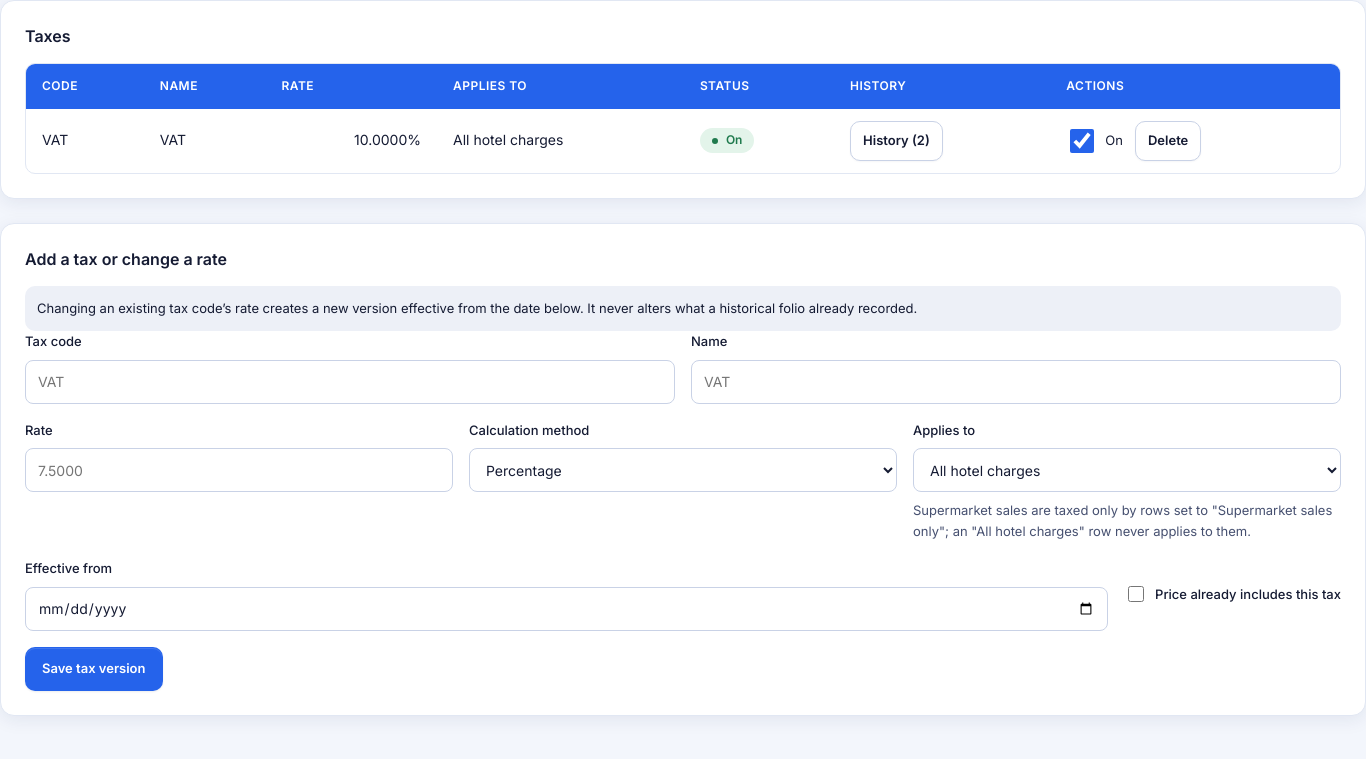
it: <TaxesTab> › grouping, history and delete availability › History is collapsed by default and expands to every version with its dates and rate
The width and height of the screenshot is (1366, 759).
Expected: the text "Historical" is not shown
Click the button "History (2)": [896, 141] box 850,121 -> 943,161
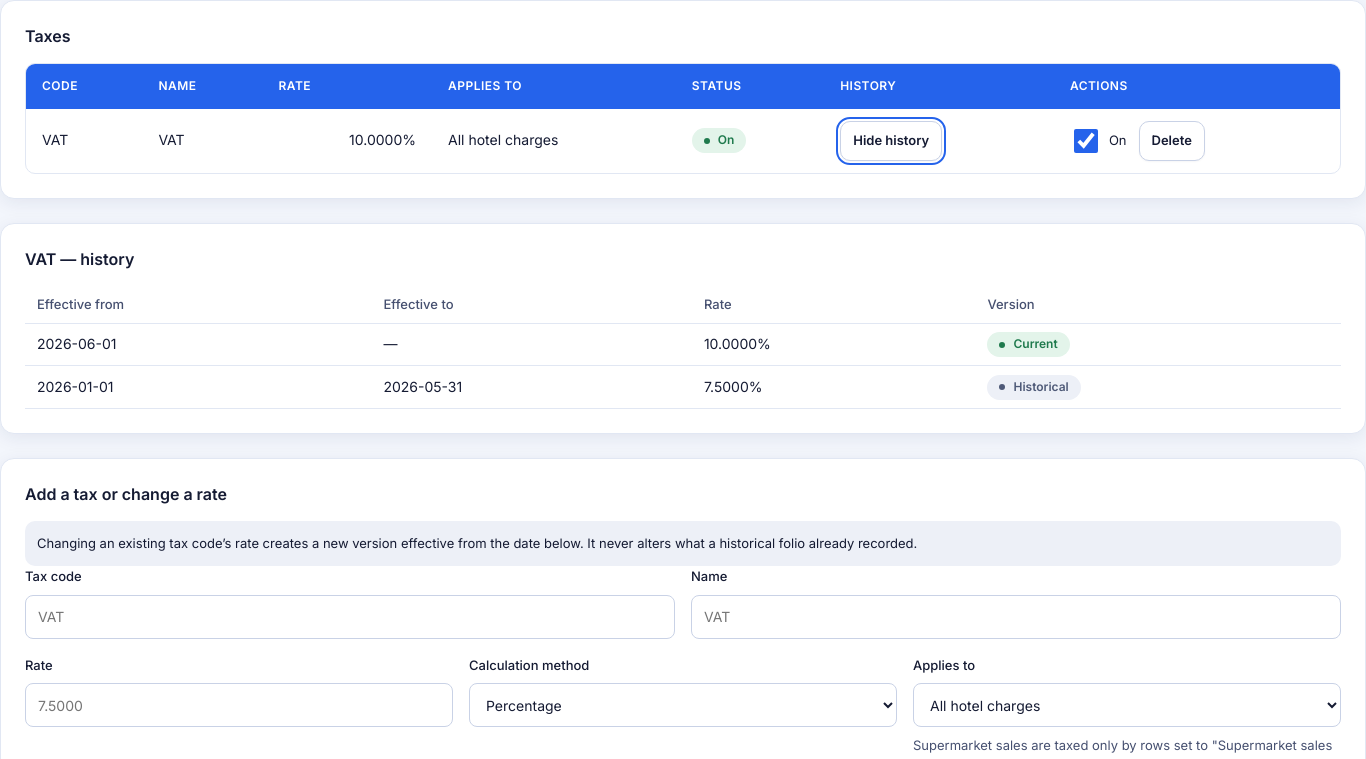
Now the button "Hide history" is expanded
Now the text "2026-05-31" is shown, box 371,366 -> 692,408
Now the text "7.5000%" is shown, box 692,366 -> 975,408
Click the button "Hide history": [891, 141] box 840,121 -> 942,161
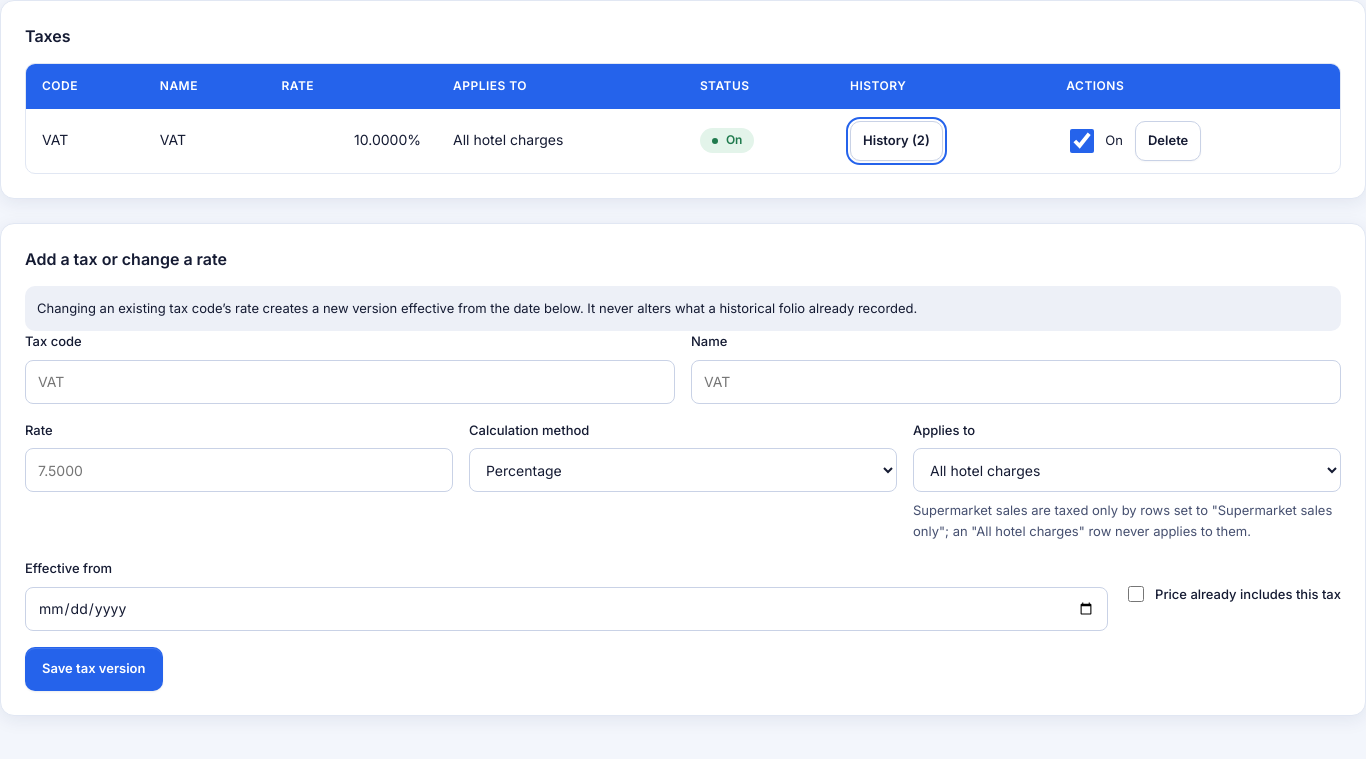
Now the table with id "tax-history-VAT" is gone
